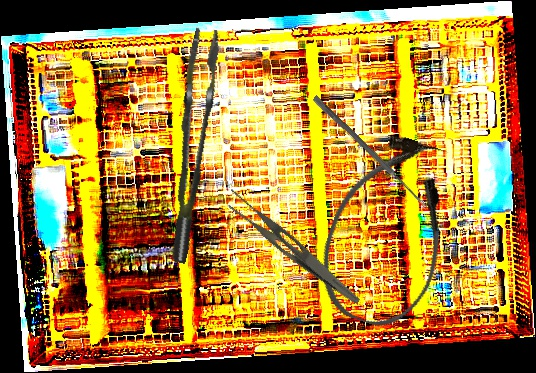Cannula: (305, 123, 473, 339)
Dressing Forceps: (217, 186, 372, 306)
Surgical Spoon: (311, 95, 430, 210)
Tissue Forceps: (140, 24, 242, 265)
